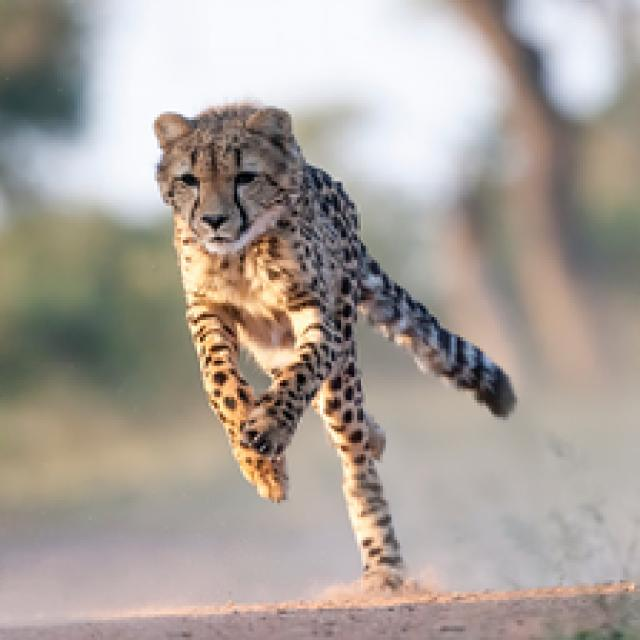cheetah: (129, 80, 552, 598)
